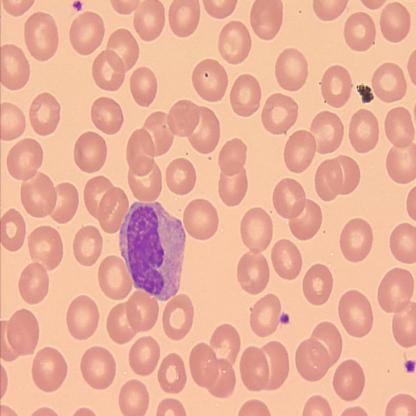Monocyte: (116, 199, 187, 304)
